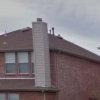Chimney: (23, 15, 56, 83)
